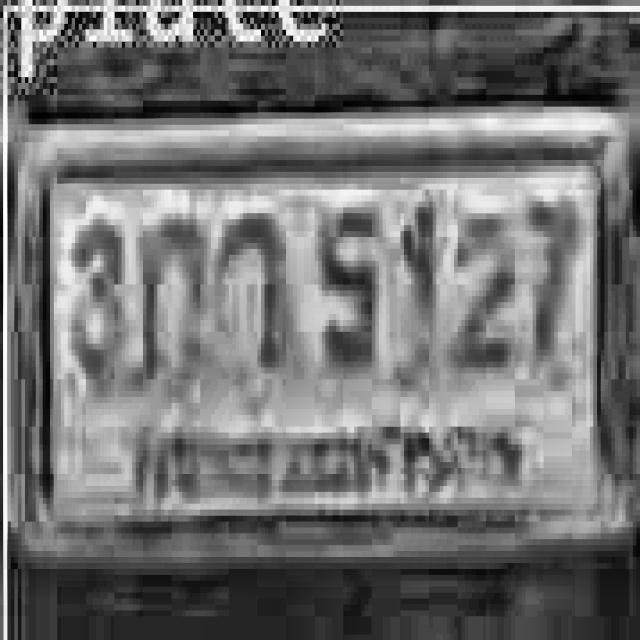license-plate: (16, 108, 640, 565)
